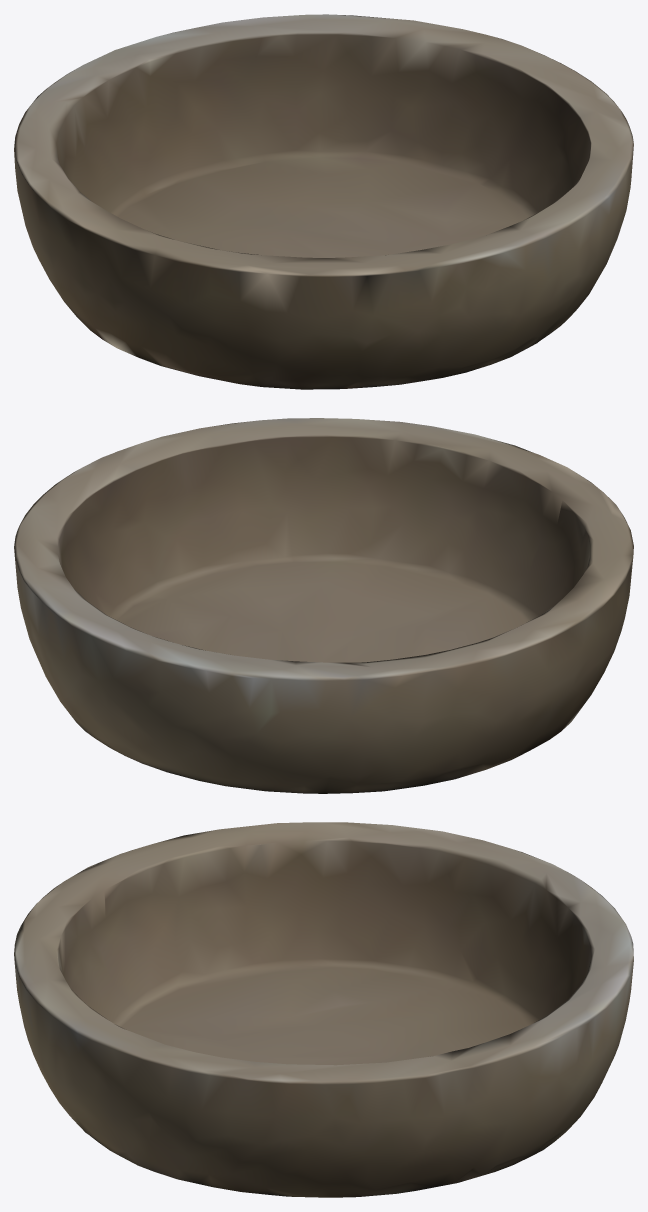
3 renders of one model, top to bottom at view 1: azimuth 30°, elevation 25°; view 2: azimuth 150°, elevation 25°; view 3: azimuth 270°, elevation 25°, orthographic.
Visible parts, largest first — view 1: planter-concrete-edge; view 2: planter-concrete-edge; view 3: planter-concrete-edge.
Boxes of the visible parts, x1=… form: planter-concrete-edge: x1=14, y1=14, x2=633, y2=389; planter-concrete-edge: x1=14, y1=418, x2=633, y2=793; planter-concrete-edge: x1=14, y1=822, x2=633, y2=1197.
Size of the model in its own units: 1.86 by 0.4503 by 1.86.
